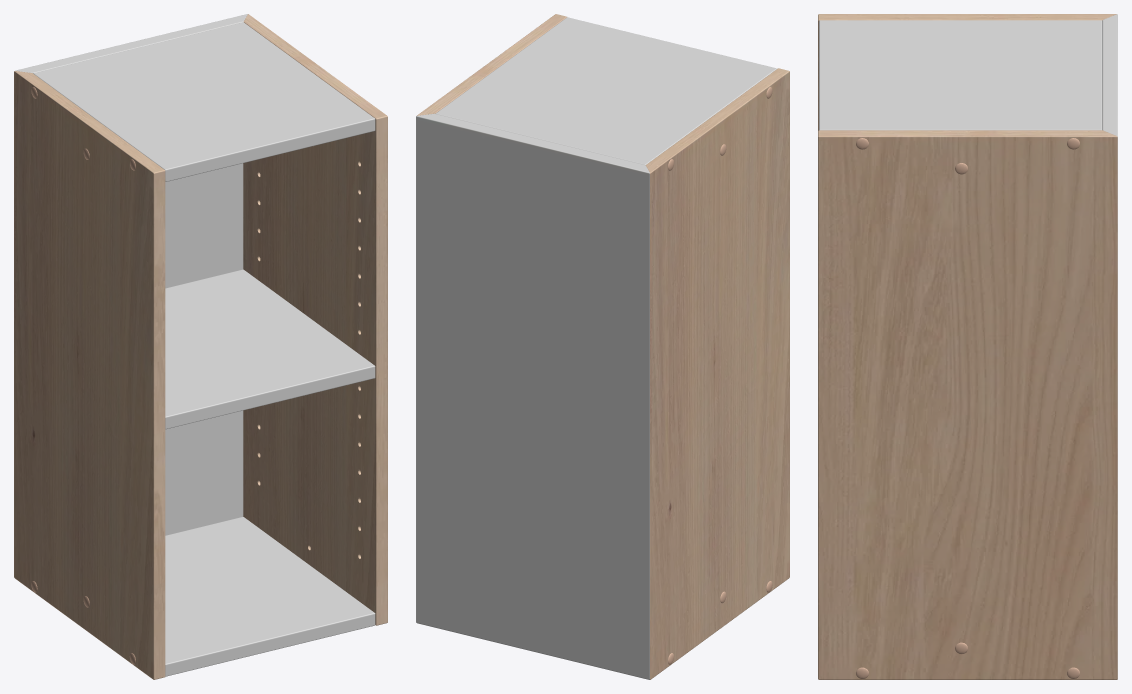
The model's file is abo-B07TTY39K8.glb.
3 renders of one model, left to right at view 1: azimuth 30°, elevation 25°; view 2: azimuth 150°, elevation 25°; view 3: azimuth 270°, elevation 25°, orthographic. The views are drawn at different scales.
Bounding box in the file's own units: 0.29 × 0.594 × 0.297.
1 material, 1 textured.
